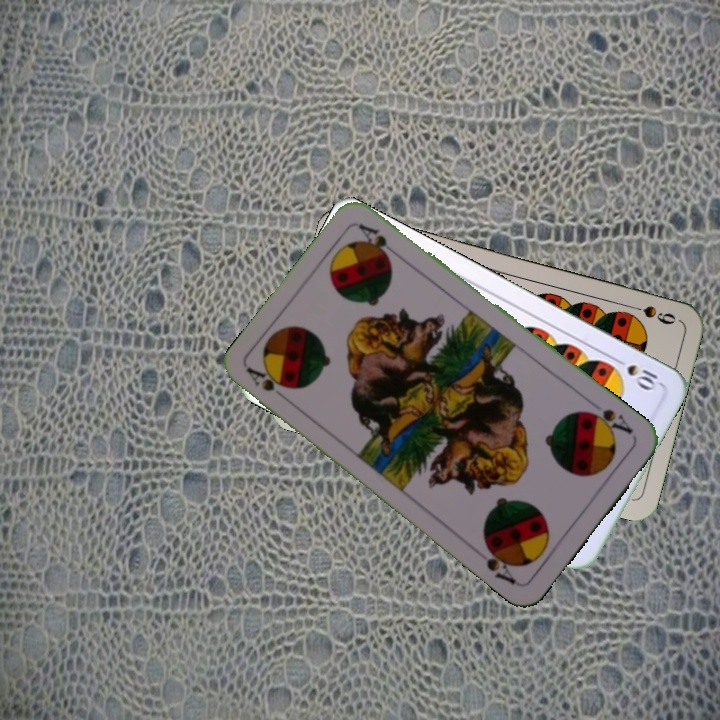S10: (609, 353, 664, 394)
S9: (622, 300, 678, 327)
SA: (243, 363, 294, 407), (580, 404, 636, 437)
